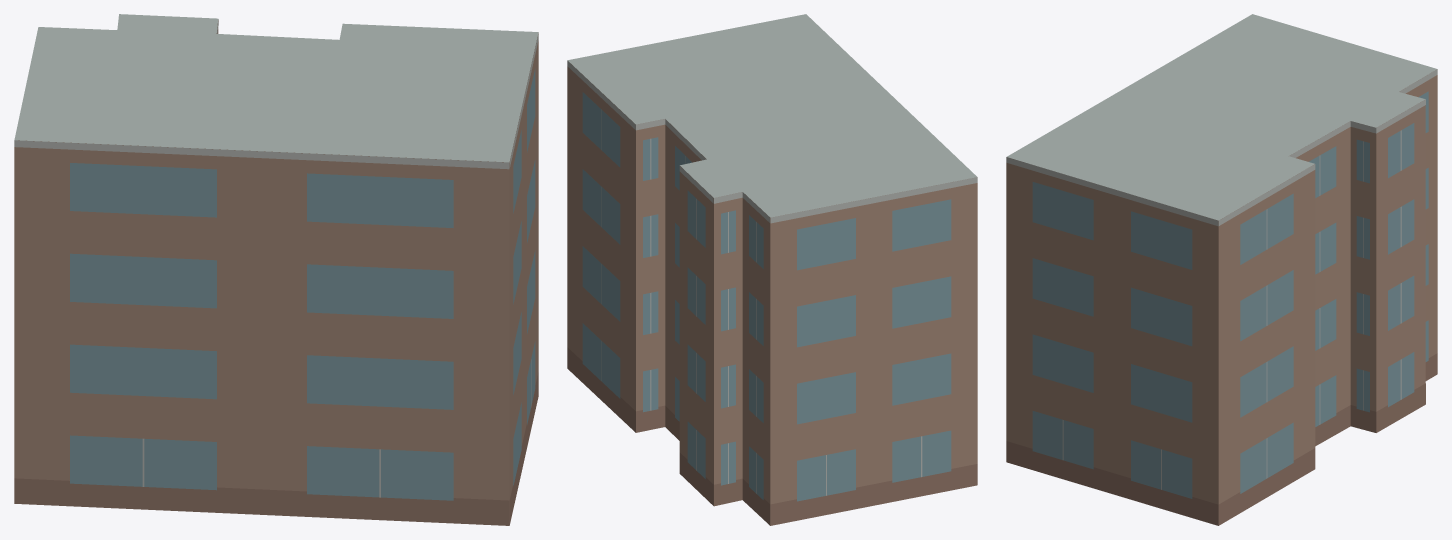
The model's file is survey-upis-32836409.glb.
3 views of the same model, side by side, from view 1: azimuth 30°, elevation 25°; view 2: azimuth 150°, elevation 25°; view 3: azimuth 270°, elevation 25° (orthographic). The views are drawn at different scales.
Parts seen in each view (by area): view 1: survey-upis-32836409.tmp; view 2: survey-upis-32836409.tmp; view 3: survey-upis-32836409.tmp.
Part boxes in pixels (x1,y1,x2,y2): survey-upis-32836409.tmp: (14, 14, 538, 525); survey-upis-32836409.tmp: (567, 14, 977, 525); survey-upis-32836409.tmp: (1006, 14, 1437, 525).
Size of the model in its own units: 18.71 by 12.89 by 16.5.
